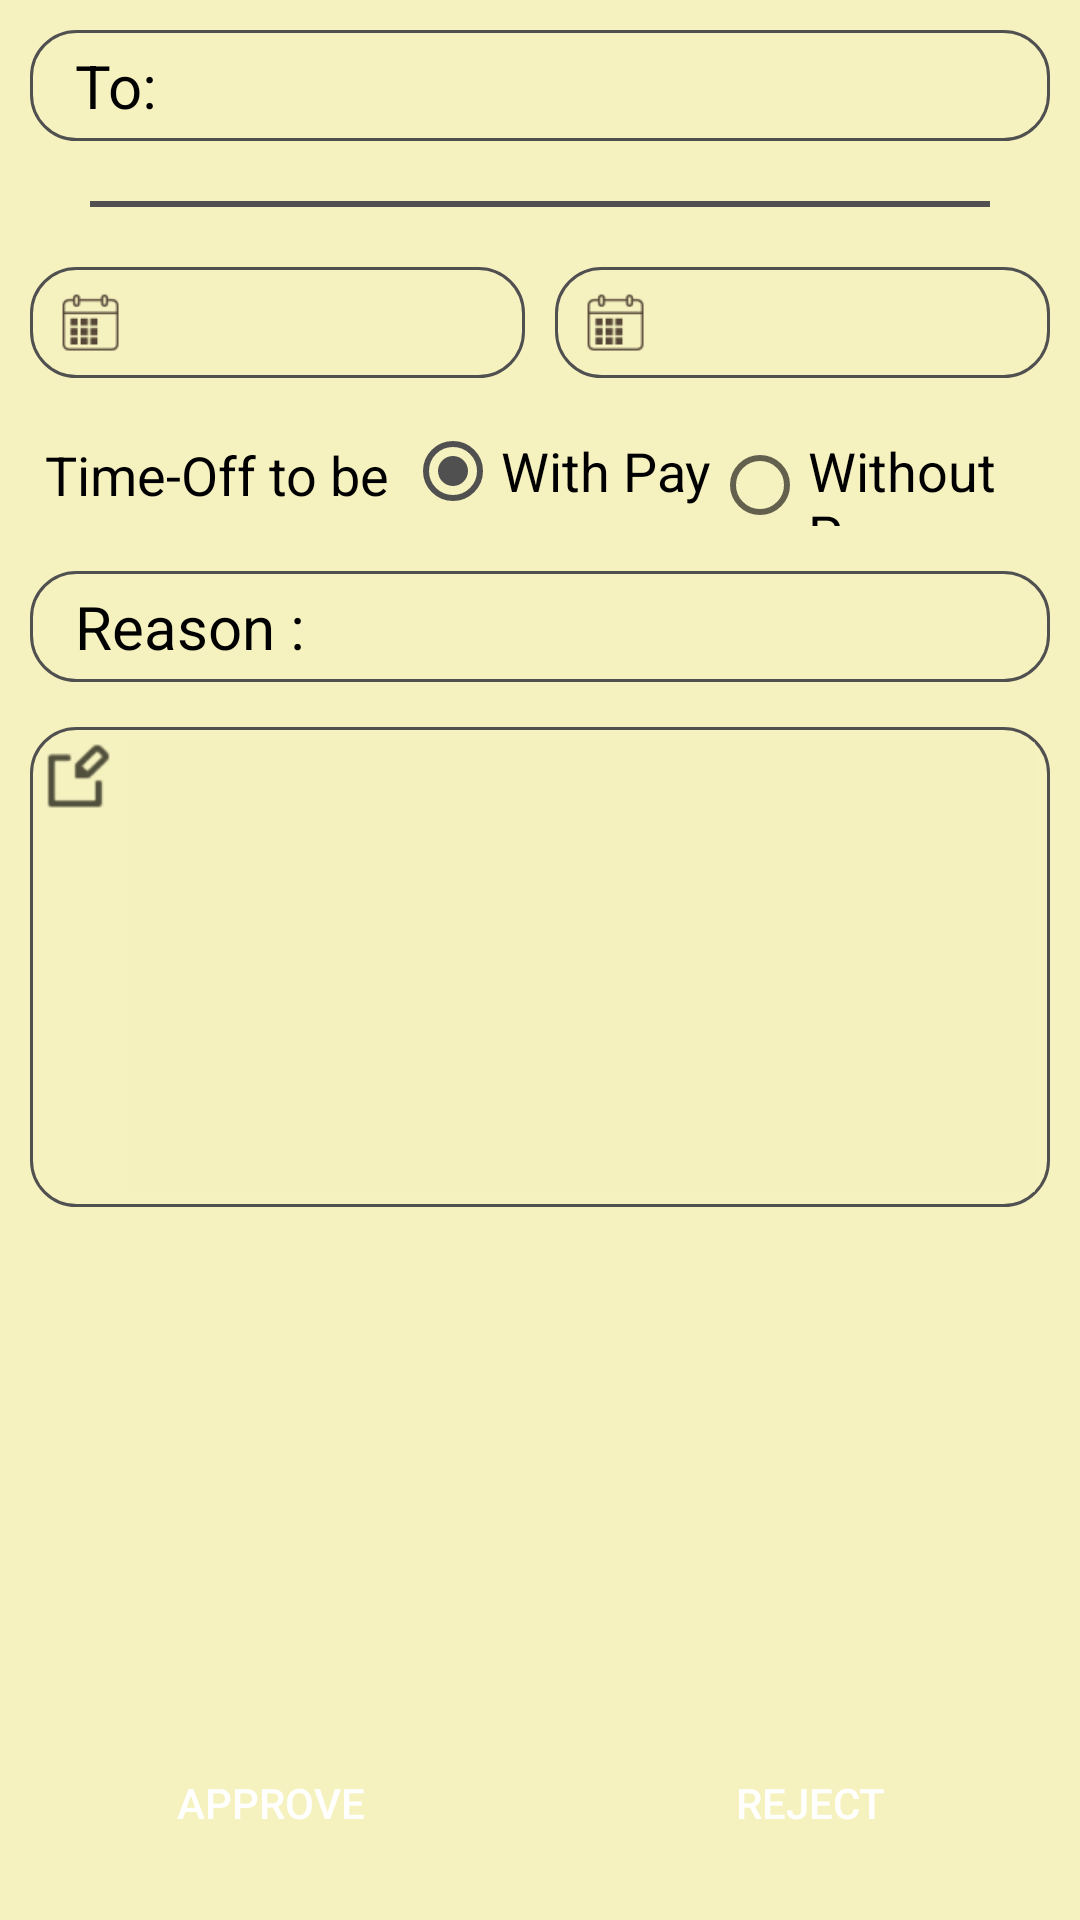

Named icons in this screenshot (1080 x 1920) and their centers, (x,y):
calender: (90,322), (615,322)
notes: (78,776)
